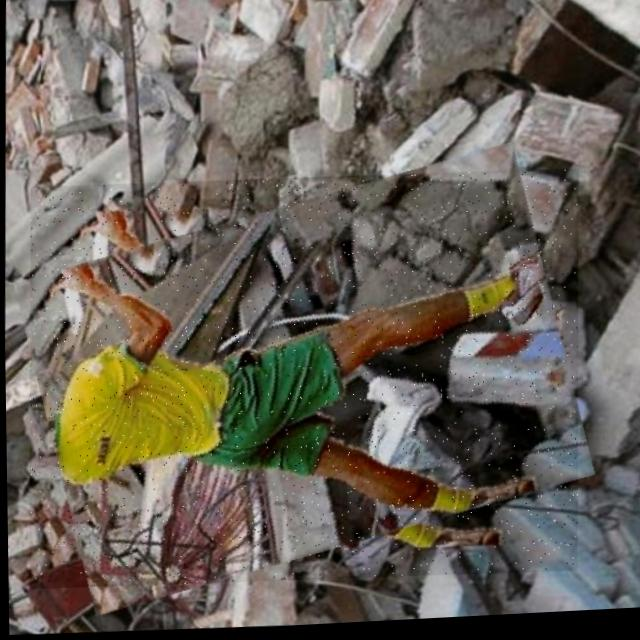Person in Rubble: (22, 163, 582, 598)
